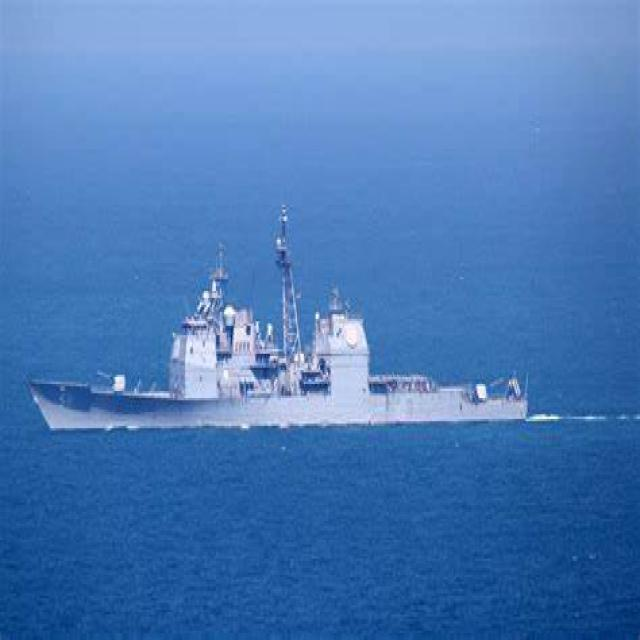navalvessels: (13, 230, 535, 432)
